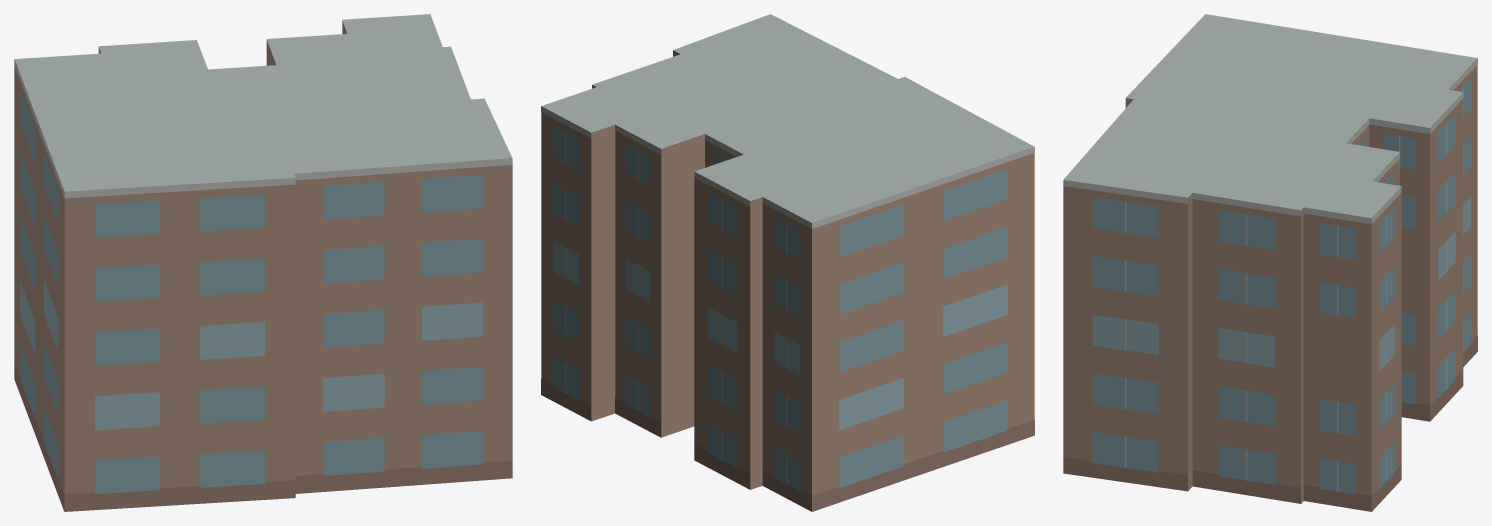
Rendered from survey-upis-32927380.glb.
3 renders of one model, left to right at view 1: azimuth 30°, elevation 25°; view 2: azimuth 150°, elevation 25°; view 3: azimuth 270°, elevation 25°, orthographic. The views are drawn at different scales.
Visible parts, largest first — view 1: survey-upis-32927380.tmp; view 2: survey-upis-32927380.tmp; view 3: survey-upis-32927380.tmp.
Boxes of the visible parts, bbox=[...] form: survey-upis-32927380.tmp: bbox=[14, 14, 512, 511]; survey-upis-32927380.tmp: bbox=[541, 14, 1034, 511]; survey-upis-32927380.tmp: bbox=[1063, 14, 1477, 511].
Size of the model in its own units: 17.47 by 11.7 by 14.98.
